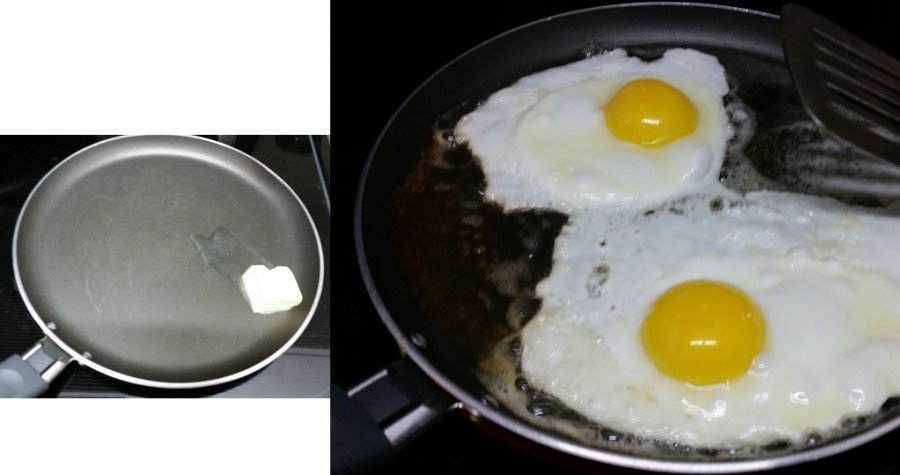fried egg: (470, 73, 879, 416)
